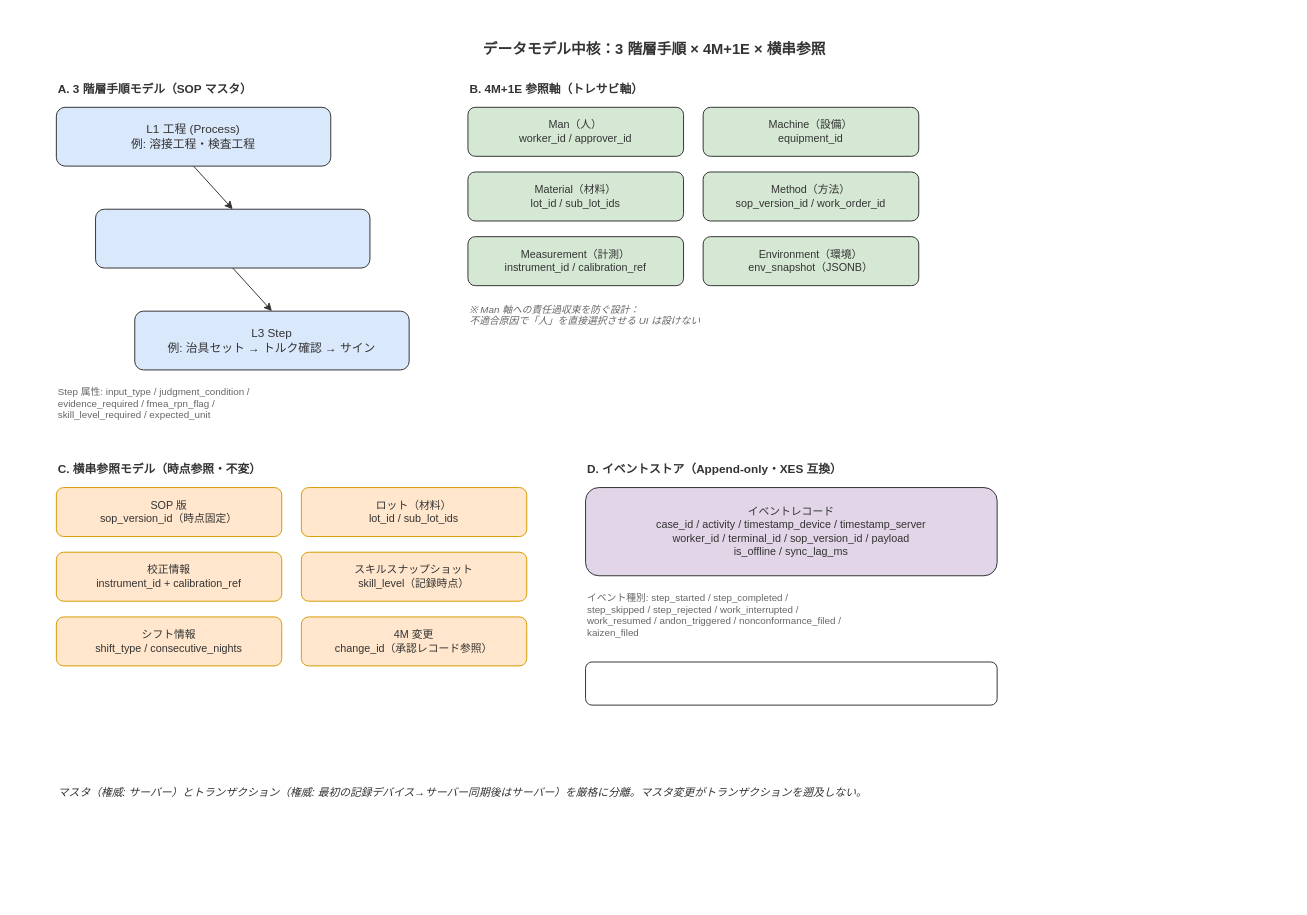
This 1307x915 diagram has some shape labels left out. Here are the shapes that lost their labels. From the top down, the box of each, then its label:
(95, 208, 370, 268): L2 作業 (Operation) 例: 溶接準備・本溶接・後処理
(585, 661, 997, 705): UPDATE / DELETE 禁止（DB ロール制御） 修正は「訂正イベント」として追記
